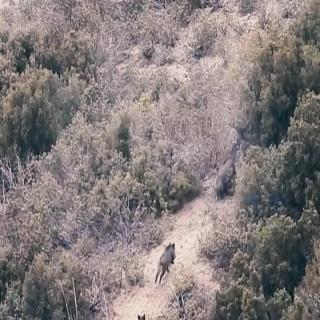Pig: (211, 147, 242, 203), (152, 238, 182, 285)
